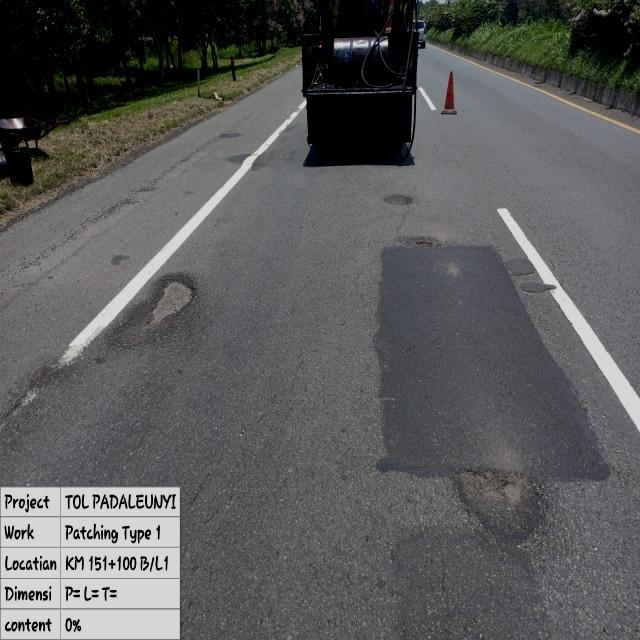Buraco: (445, 464, 554, 548), (102, 272, 201, 354), (391, 234, 446, 252), (381, 192, 416, 208)
